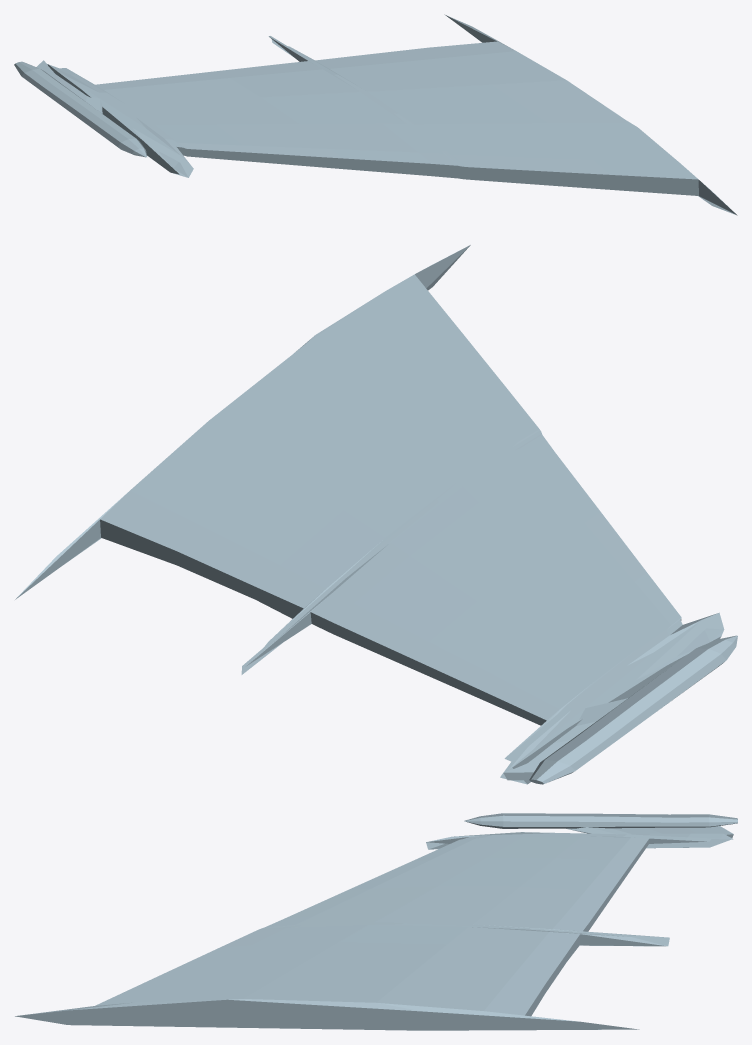
Rendered from su33d_wing_fold_right.glb.
3 renders of one model, top to bottom at view 1: azimuth 30°, elevation 25°; view 2: azimuth 150°, elevation 25°; view 3: azimuth 270°, elevation 25°, orthographic. The views are drawn at different scales.
Parts seen in each view (by area): view 1: 0_WingFoldRight; view 2: 0_WingFoldRight; view 3: 0_WingFoldRight.
Boxes of the visible parts, x1,y1,x2,y2 form: 0_WingFoldRight: (14,14,737,215); 0_WingFoldRight: (15,245,737,784); 0_WingFoldRight: (15,813,737,1030).
Bounding box in the file's own units: 3.69 × 0.3167 × 5.53.
